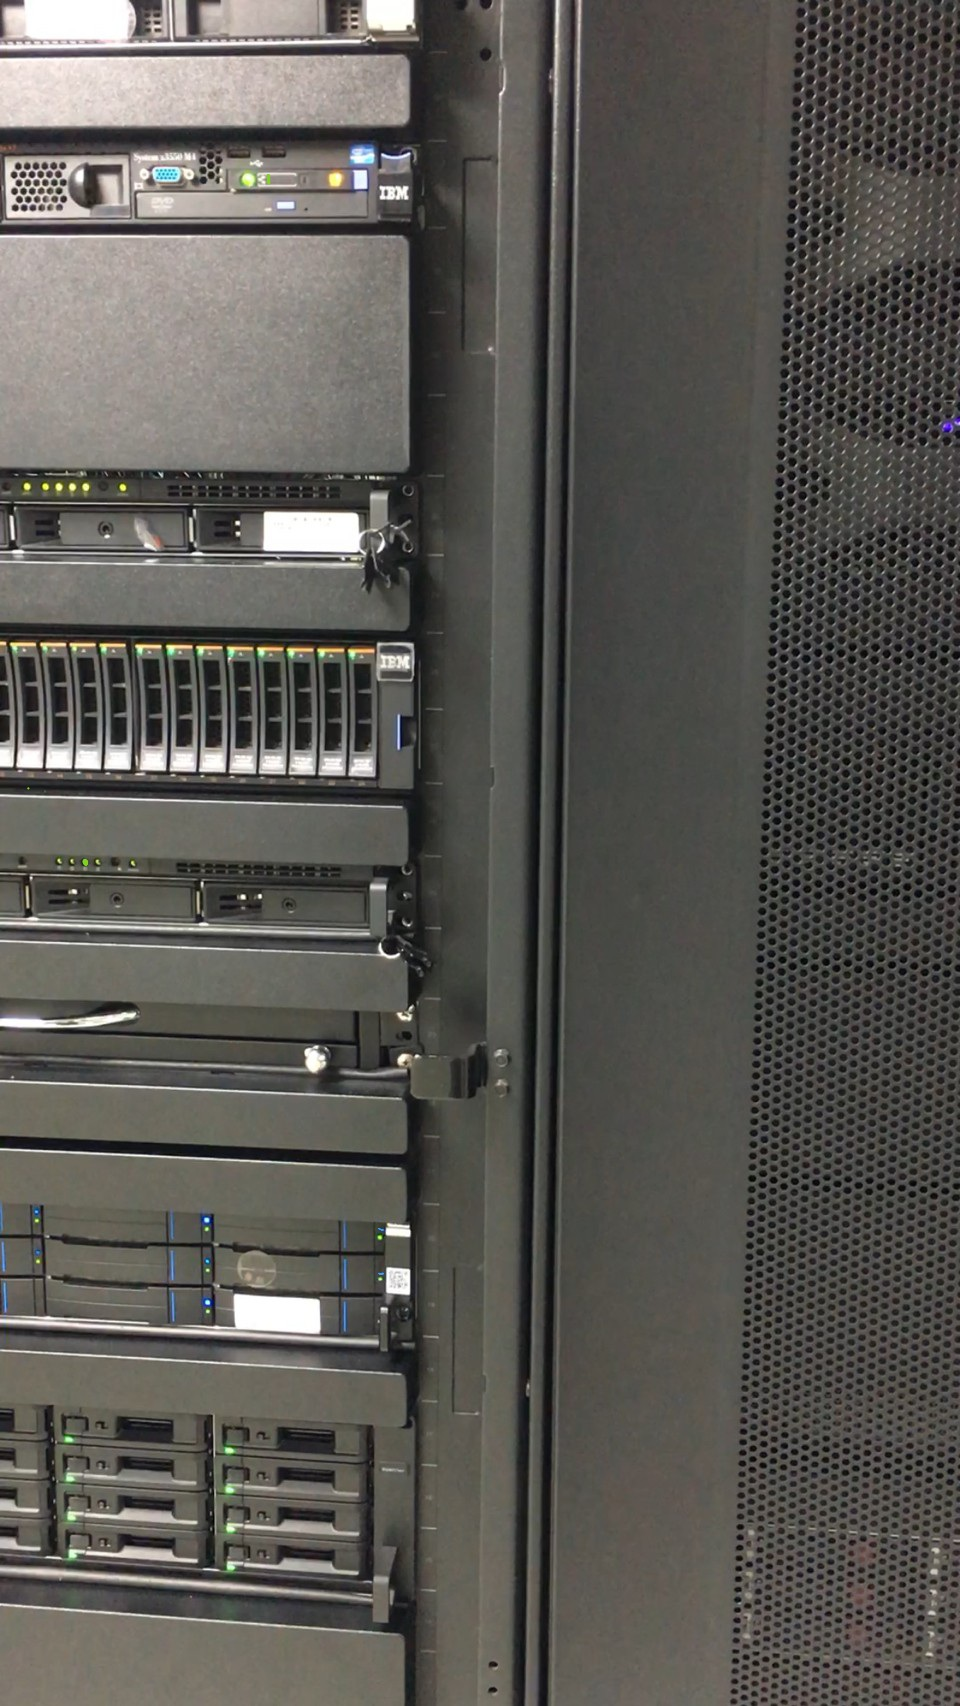HDD_normal: (48, 1205, 403, 1340), (1, 1202, 52, 1274)
